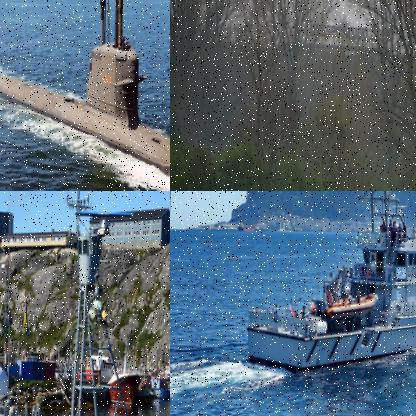Patrol Boat: (0, 191, 169, 415), (244, 191, 415, 378)
Submarine: (0, 0, 169, 190)
